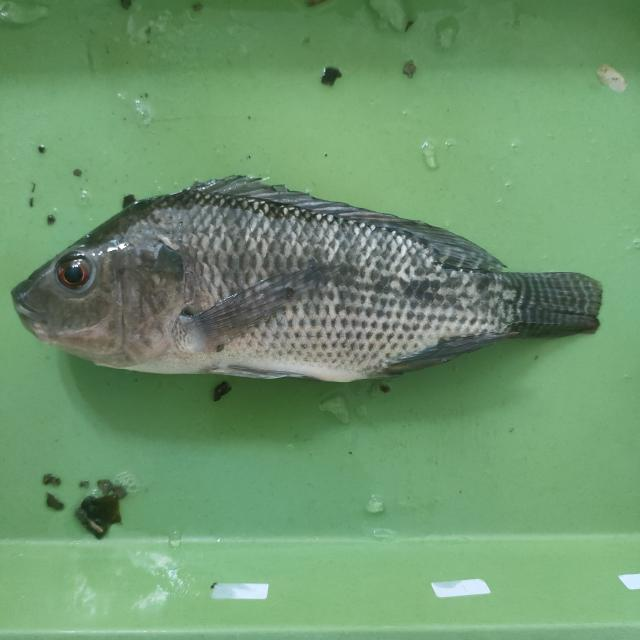Fresh: (93, 188, 466, 390), (53, 248, 98, 294)
